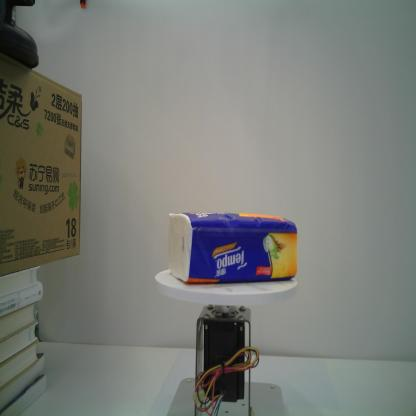Tissue: (168, 211, 299, 286)
